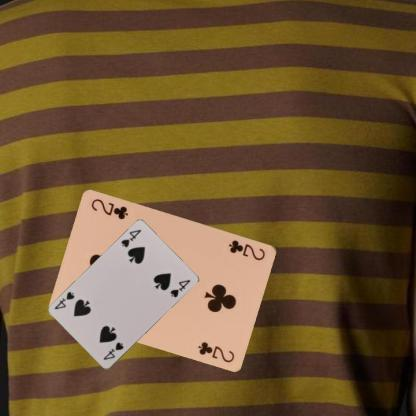2c: (226, 237, 267, 262)
4s: (118, 227, 143, 249), (100, 340, 125, 361)
